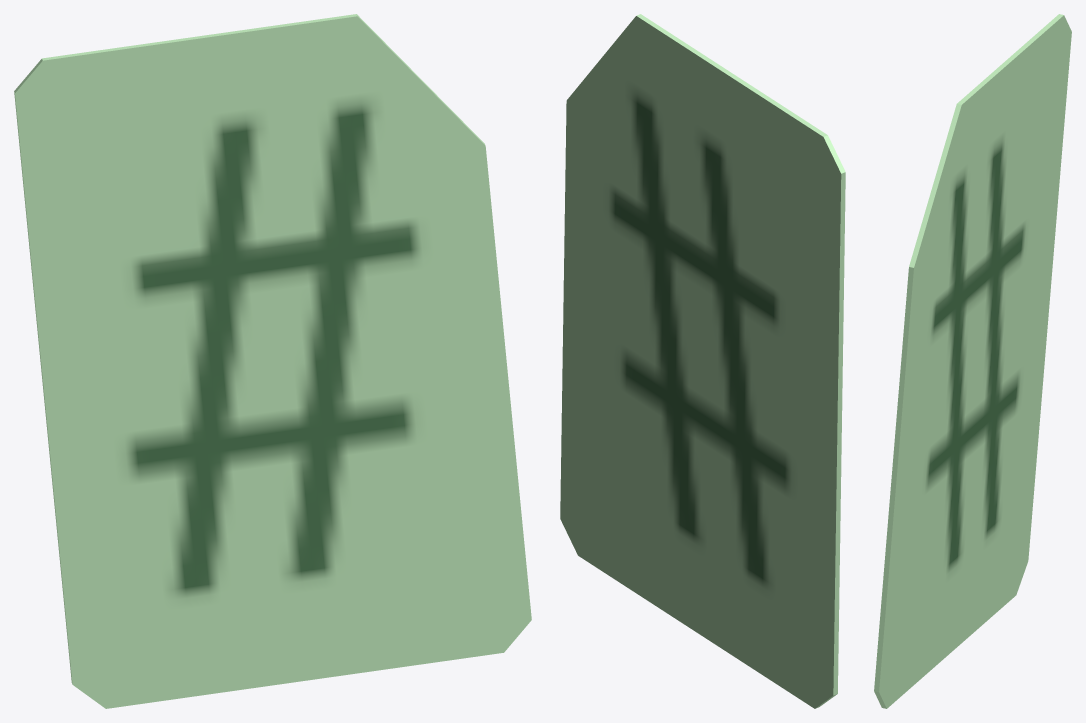
The model's file is Komono_C_Script.fbx.
3 renders of one model, left to right at view 1: azimuth 30°, elevation 25°; view 2: azimuth 150°, elevation 25°; view 3: azimuth 270°, elevation 25°, orthographic. The views are drawn at different scales.
Visible parts, largest first — view 1: Script_m; view 2: Script_m; view 3: Script_m.
Boxes of the visible parts, <box> form: Script_m: <box>14,14,531,708</box>; Script_m: <box>560,14,845,708</box>; Script_m: <box>874,14,1071,708</box>.
Bounding box in the file's own units: 61.01 × 94.1 × 28.8.
